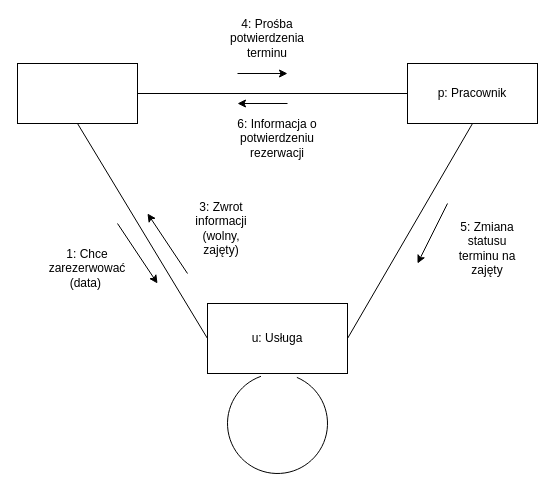
Some shapes in this 555 by 491 pixel diagram are drawn without their labels. The centre of each missing label's shape, as x and y in pixels:
2: Czy wolny termin?: [277,423]
k: Klient: [77,93]
